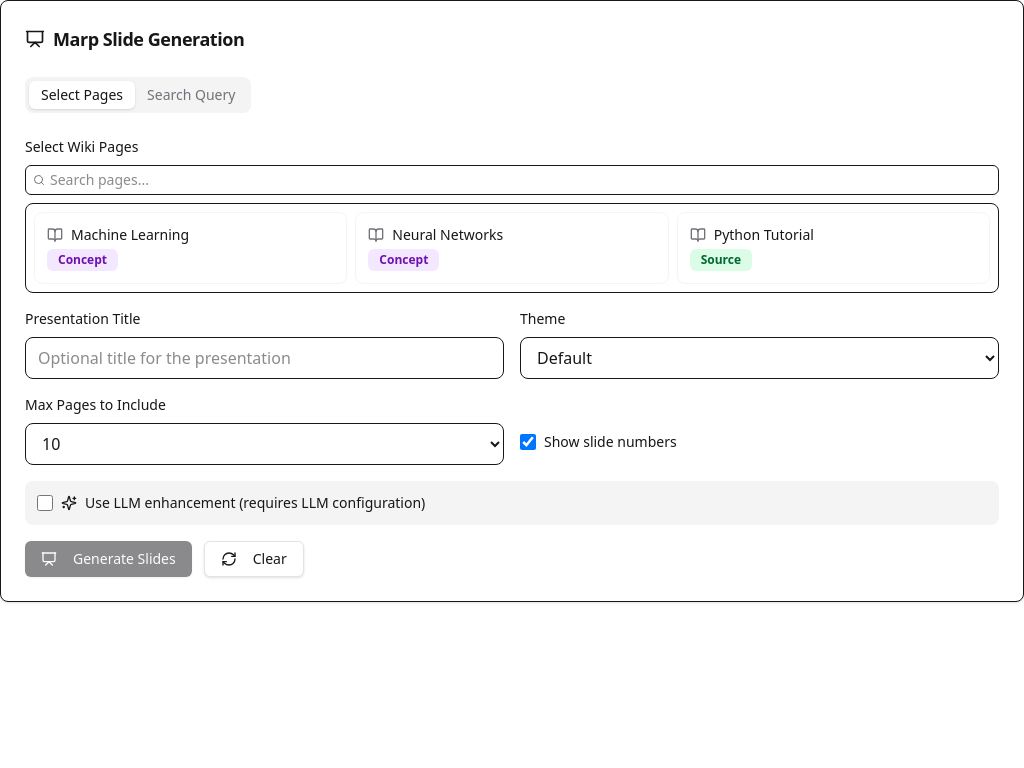
Test case: MarpSlides › should show error message when generation fails
Expected: the text "Machine Learning" is shown, [71,225,189,245]
Click the button "Machine Learning Concept".
click(130, 234)  # box [34,212,347,284]
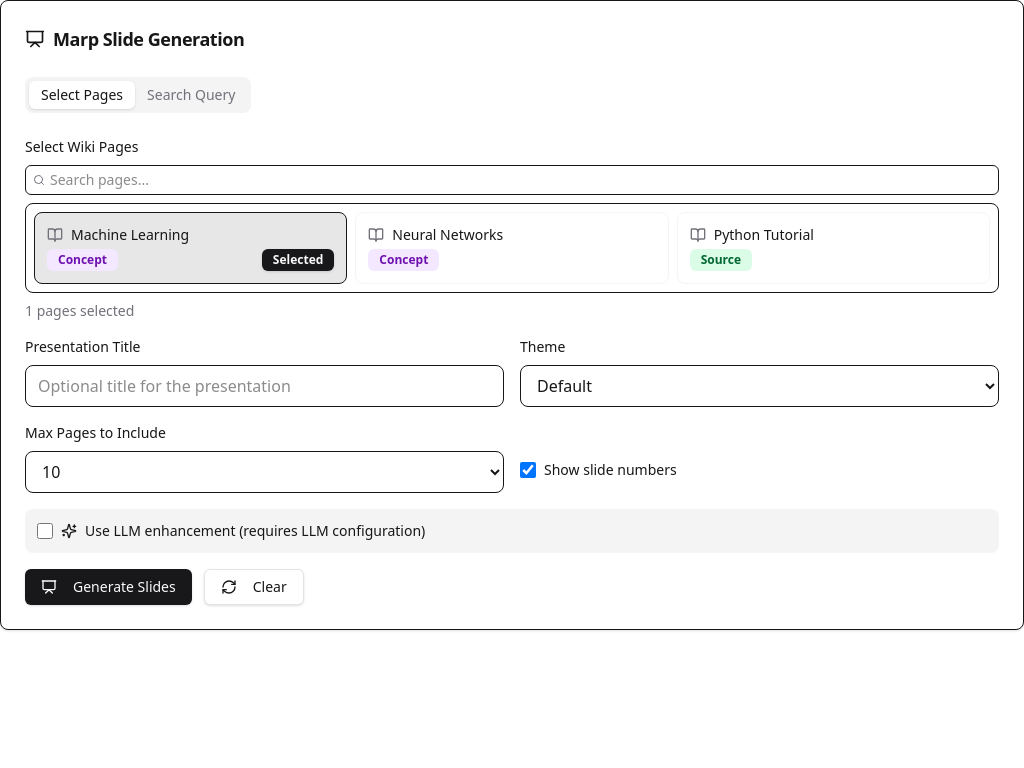
Click the checkbox labelled "Use LLM enhancement (requires LLM configuration)".
click(45, 531)  # box [37,523,53,539]
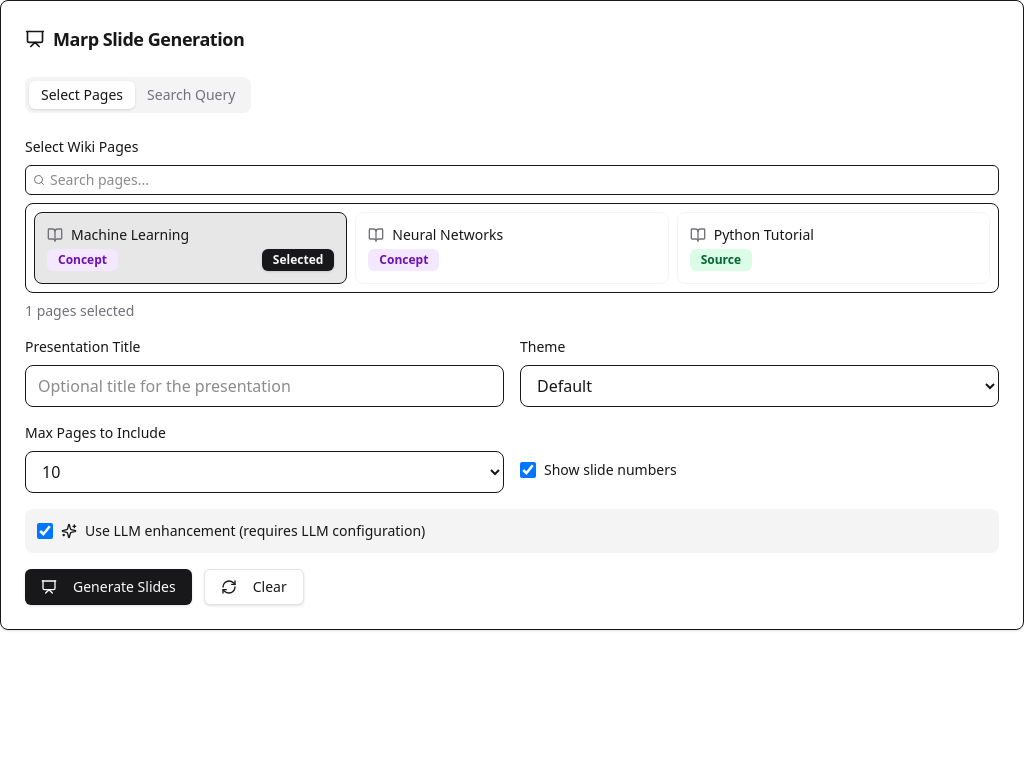
Click the button "Generate Slides".
click(108, 587)  # box [25,569,192,605]
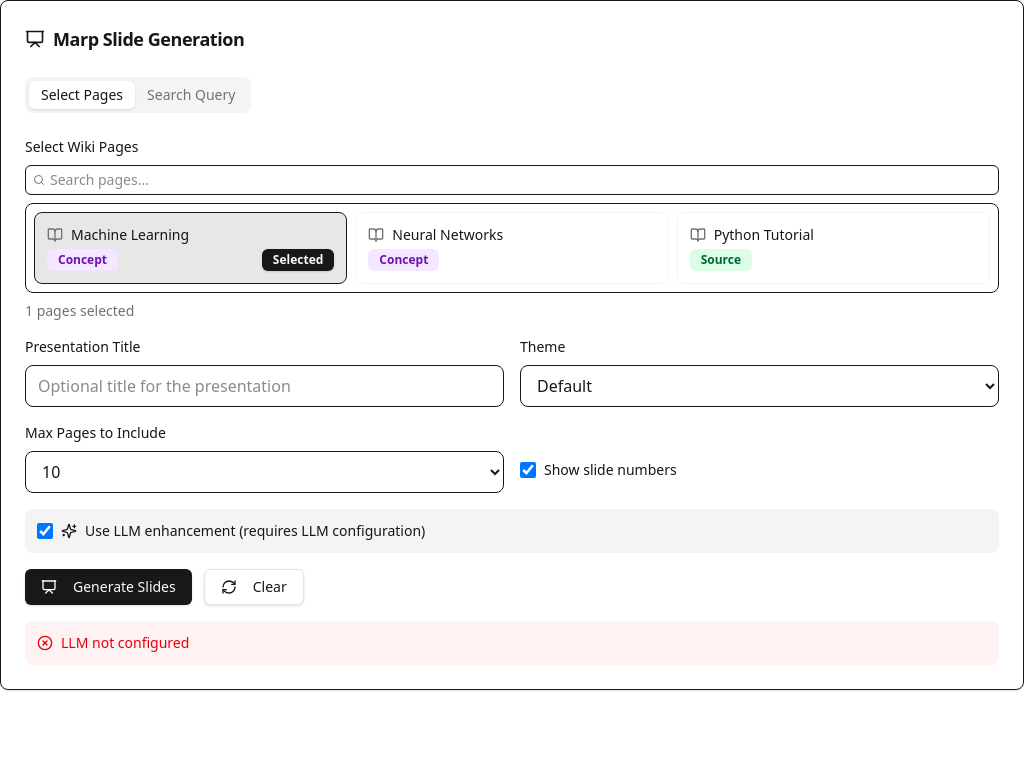
Now the text "LLM not configured" is shown, box [61,633,189,653]
